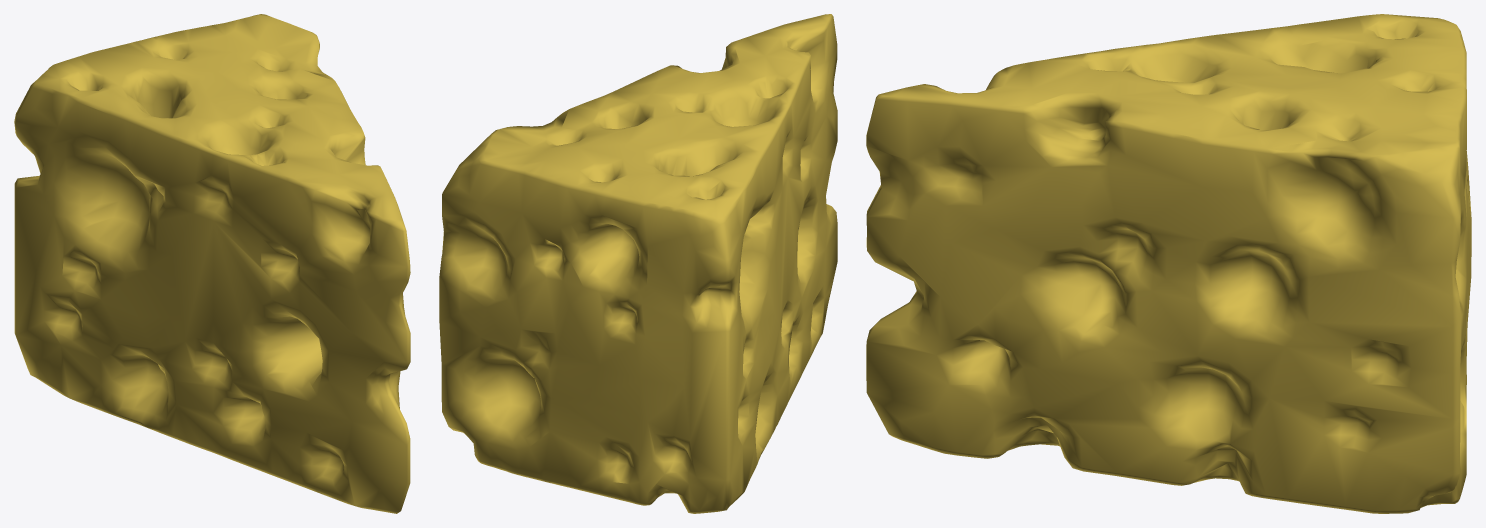
The model's file is cheese2.fbx.
The picture shows the model from 3 angles, left to right: view 1: azimuth 30°, elevation 25°; view 2: azimuth 150°, elevation 25°; view 3: azimuth 270°, elevation 25°; orthographic projection. The views are drawn at different scales.
Parts seen in each view (by area): view 1: Cube; view 2: Cube; view 3: Cube.
Part boxes in pixels (<box>): Cube: <box>14,14,410,513</box>; Cube: <box>439,14,837,513</box>; Cube: <box>866,14,1471,513</box>.
Size of the model in its own units: 199 by 201 by 306.
